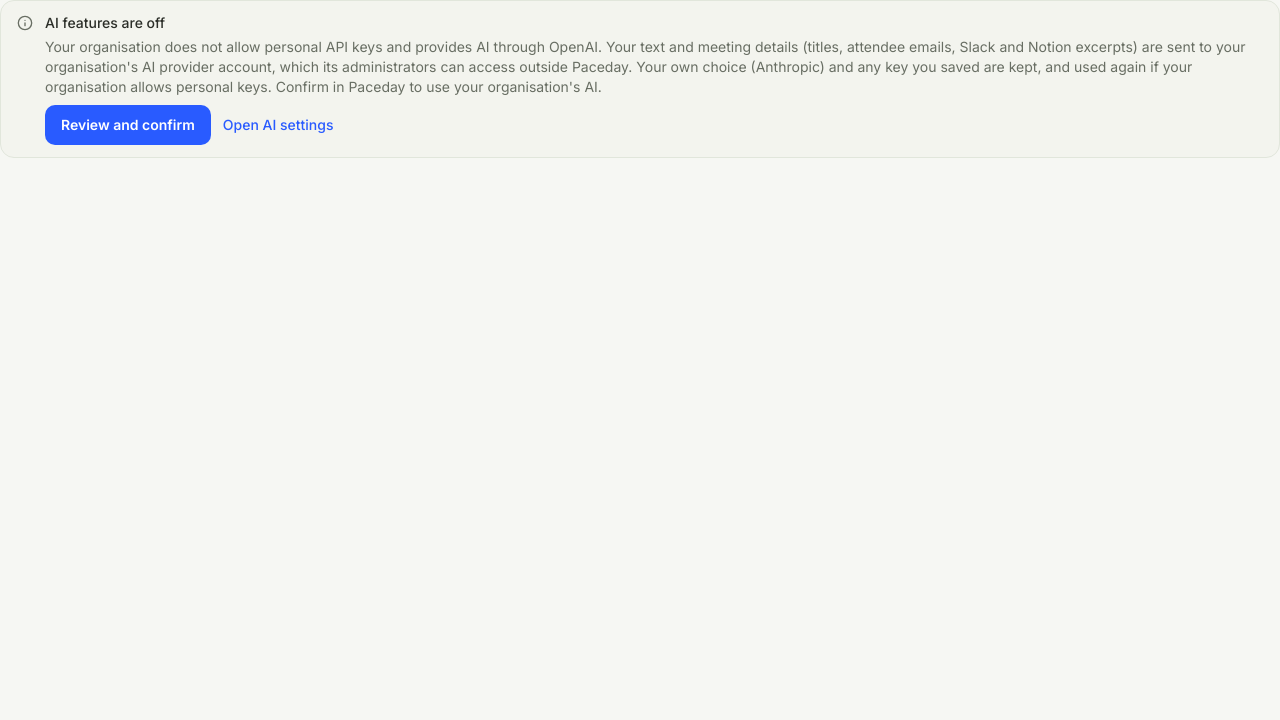
it: OrgAIConsentDialog via the not-configured notice › row 10: 'Review and confirm' confirms without rewriting the stored choice, and says the own choice is kept (PAC87-AC-15, -16)
Later steps or results of the test are not shown.
Check: the message with test id "ai-off-notice" does not show "Use my organisation's AI", box [0, 0, 1279, 158]
Click the button with test id "ai-org-confirm" at (128, 125), box [45, 105, 211, 145]
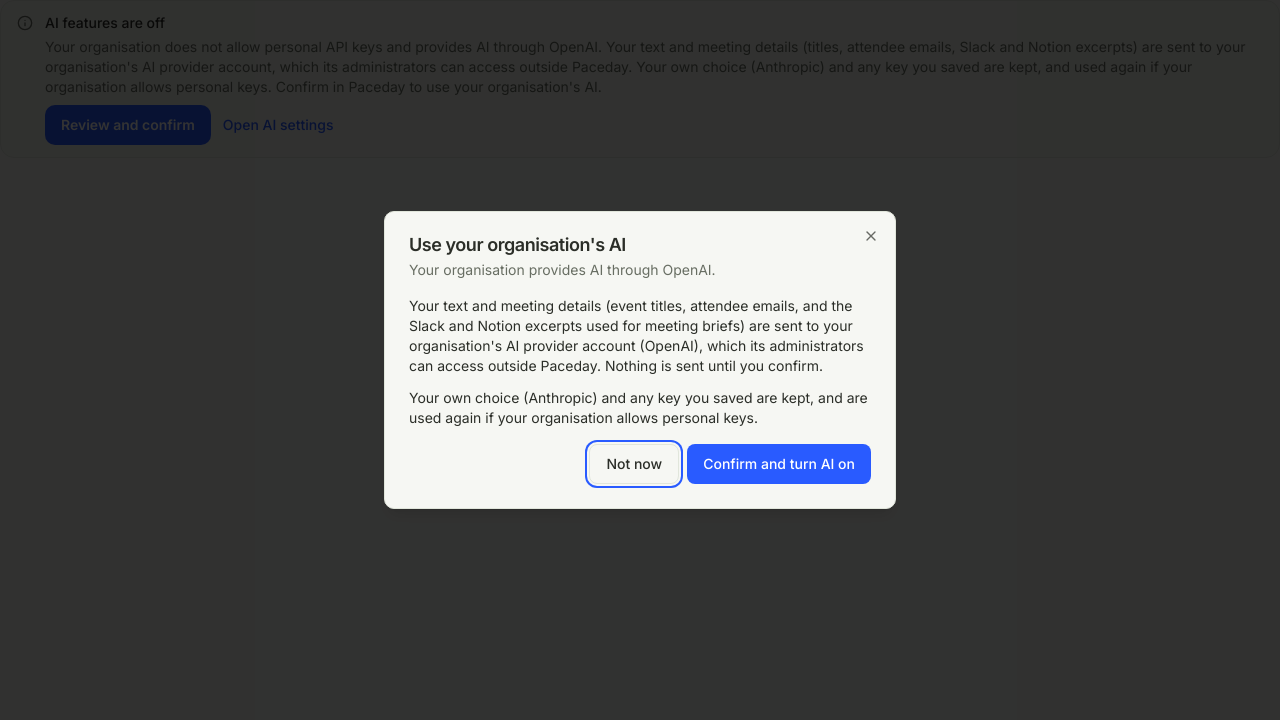
Check: the text with test id "org-ai-consent-kept" shows "Your own choice (Anthropic) and any key you saved are kept, and are used again if your organisation allows personal keys.", box [409, 389, 868, 426]
